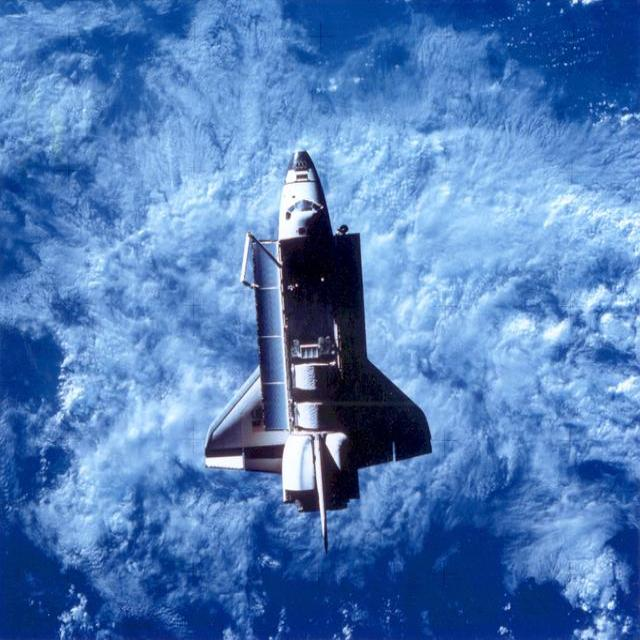medium_debris: (205, 150, 431, 549)
